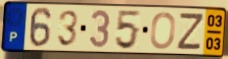3: (88, 8, 111, 50), (57, 9, 80, 47)
5: (115, 9, 143, 51)
6: (29, 6, 53, 49)
O: (149, 11, 177, 50)
Z: (175, 12, 206, 52)
